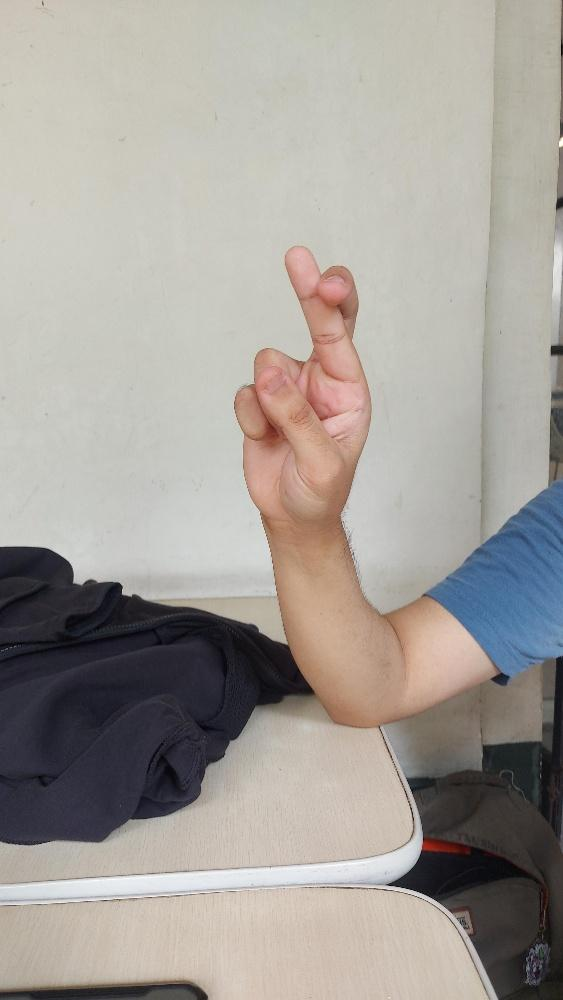r: (233, 244, 371, 524)
